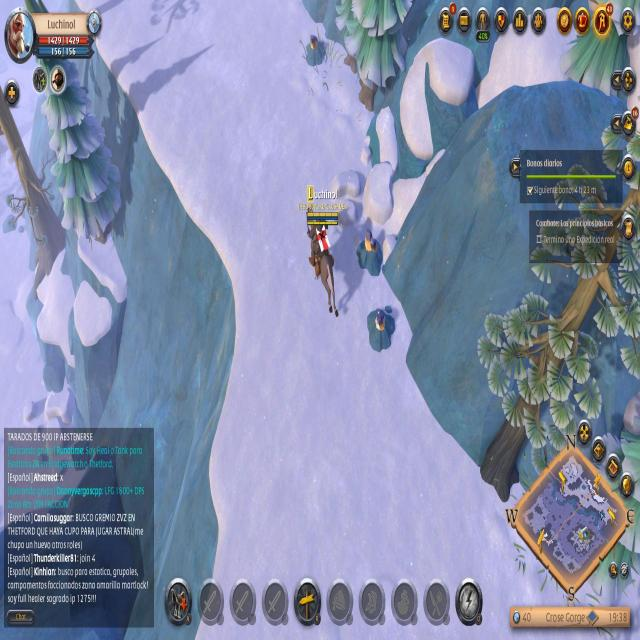piedra_cobre: (366, 295, 400, 357), (356, 223, 385, 279), (302, 26, 331, 70)
